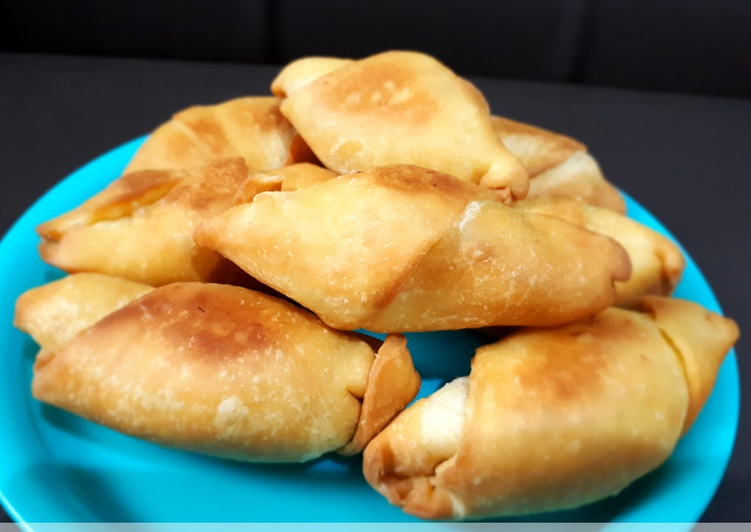pisang_molen: (364, 293, 741, 520), (202, 162, 632, 332), (30, 283, 405, 463)
